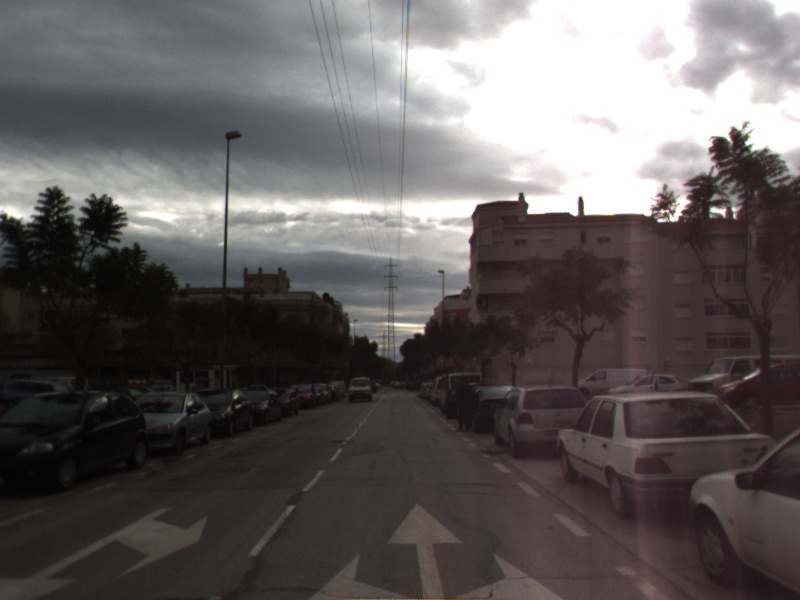STRAIGHT_LEFT_RIGHT: (304, 499, 569, 600)
